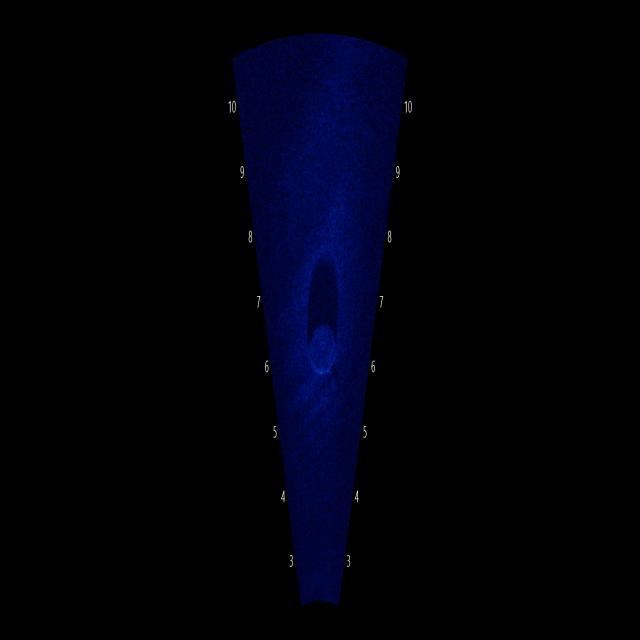circle: (305, 300, 346, 393)
